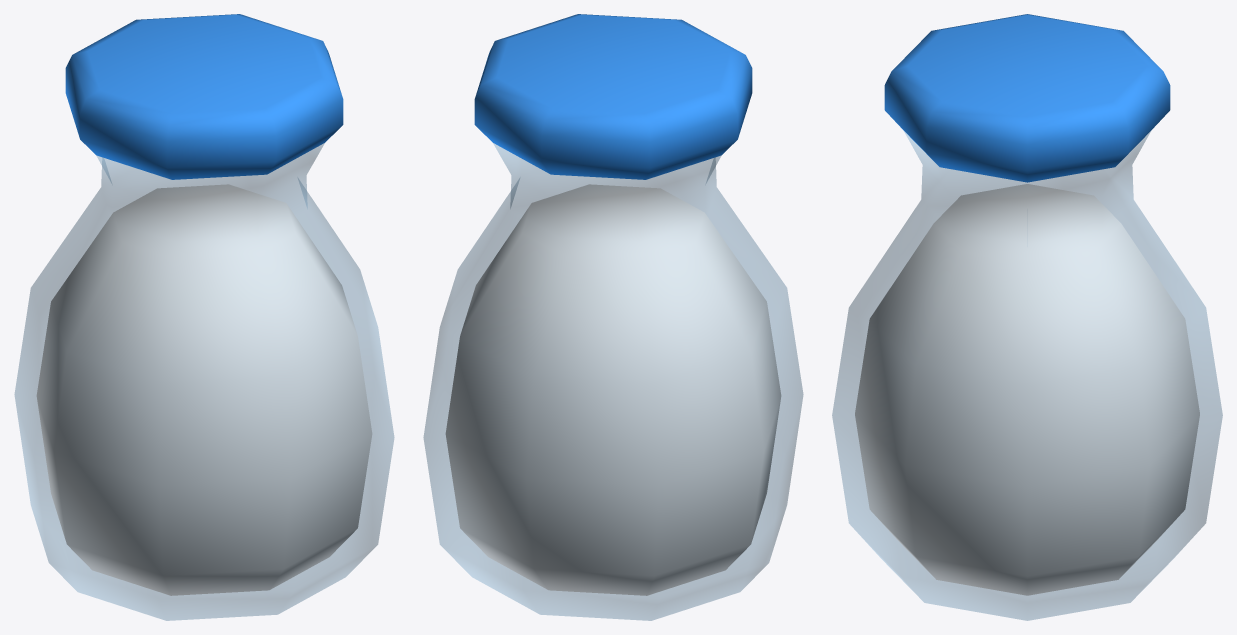
Rendered from Milk_Botle_01.fbx.
3 views of the same model, side by side, from view 1: azimuth 30°, elevation 25°; view 2: azimuth 150°, elevation 25°; view 3: azimuth 270°, elevation 25° (orthographic).
Parts seen in each view (by area): view 1: Milk_Botle_01; view 2: Milk_Botle_01; view 3: Milk_Botle_01.
Boxes of the visible parts, box(x1,y1,x2,y2) form: Milk_Botle_01: box(14, 14, 394, 620); Milk_Botle_01: box(423, 14, 803, 620); Milk_Botle_01: box(832, 14, 1222, 620).
Size of the model in its own units: 36.17 by 50.39 by 36.17.
